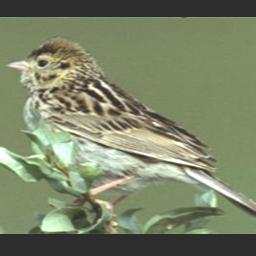Sparrow: (3, 32, 256, 220)
